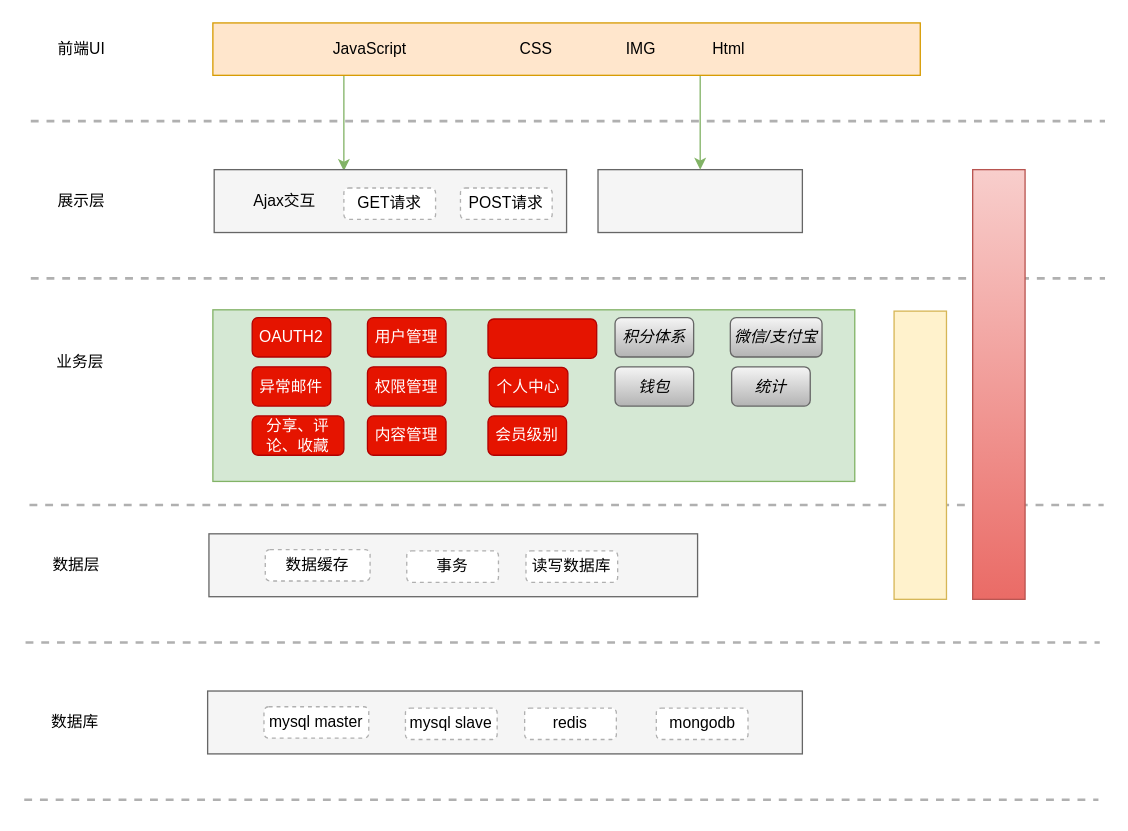
Some shapes in this 1128 by 831 pixel diagram are drawn without their labels. Each missing label, with the box of its shape:
VUE渲染页面数据: (597, 168, 802, 233)
三方授权登录: (487, 318, 597, 358)
日志记录: (893, 310, 946, 599)
权限控制: (971, 168, 1025, 599)
